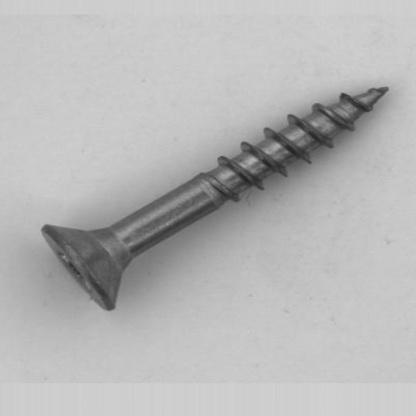metal: (40, 85, 389, 311)
